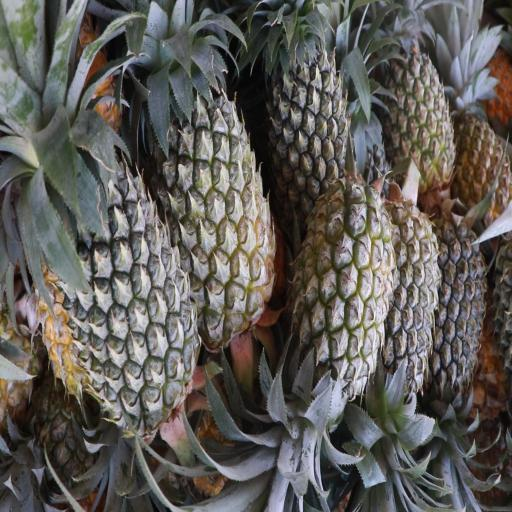------------------------------: (161, 82, 271, 325), (300, 169, 393, 387), (384, 38, 454, 194)
